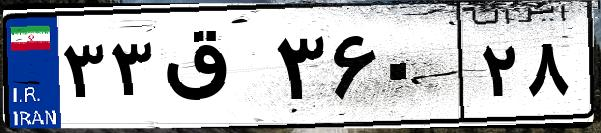0: (385, 28, 445, 110)
2: (475, 38, 525, 113)
3: (270, 28, 330, 110), (57, 26, 110, 100), (110, 28, 158, 98)
6: (330, 28, 385, 110)
8: (525, 38, 570, 115)
ق: (158, 20, 270, 120)
